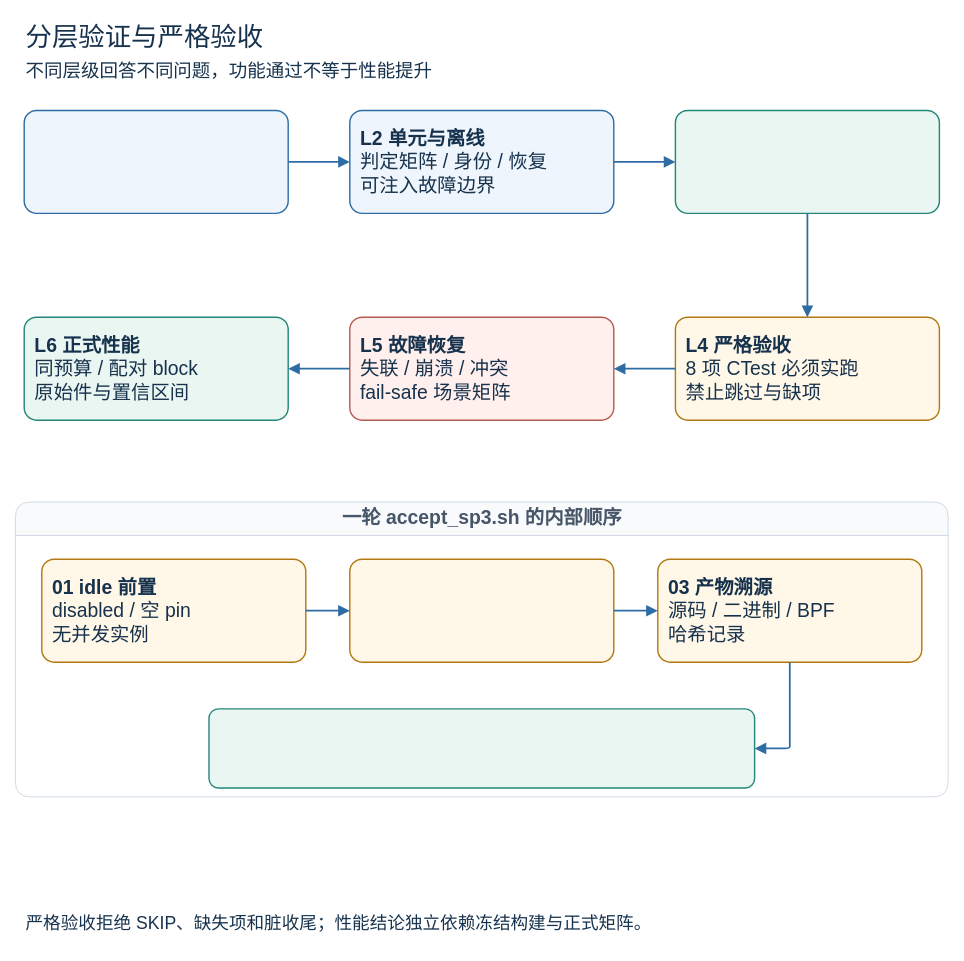
The diagram is 964 pixels wide and 961 high, and some of its shapes have lost their labels. The shapes that lost their labels are listed below. From the top down, each one's centre as x and y in pixels, then its label:
point (155, 161): L1 契约与语义 schema / 正反例 不加载内核
point (807, 161): L3 SP3 内核集成 真实 attach / 读回 cgroup 域与事件链
point (481, 610): 02 必测项 + liveness 8 项无 SKIP A/B/C 均推进
point (481, 748): 04 收尾断言 state 归位 · 自有资源清理 · 失败保留现场
